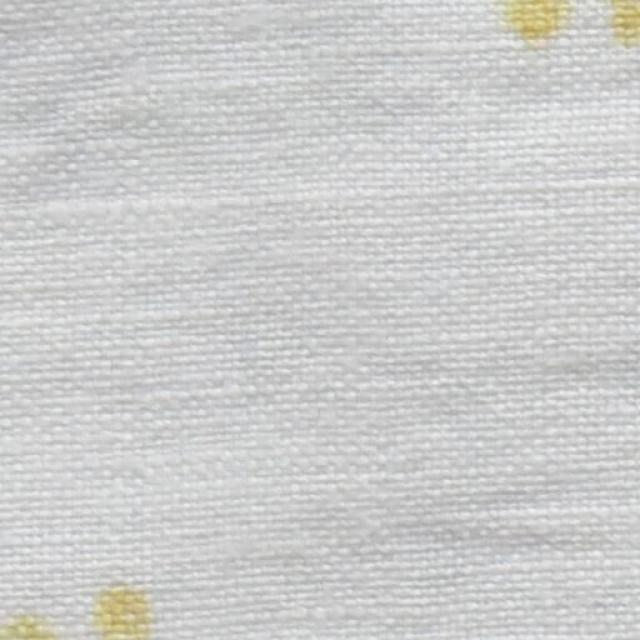Stain: (94, 589, 152, 640), (507, 0, 576, 39), (0, 616, 56, 640), (613, 0, 640, 46)
